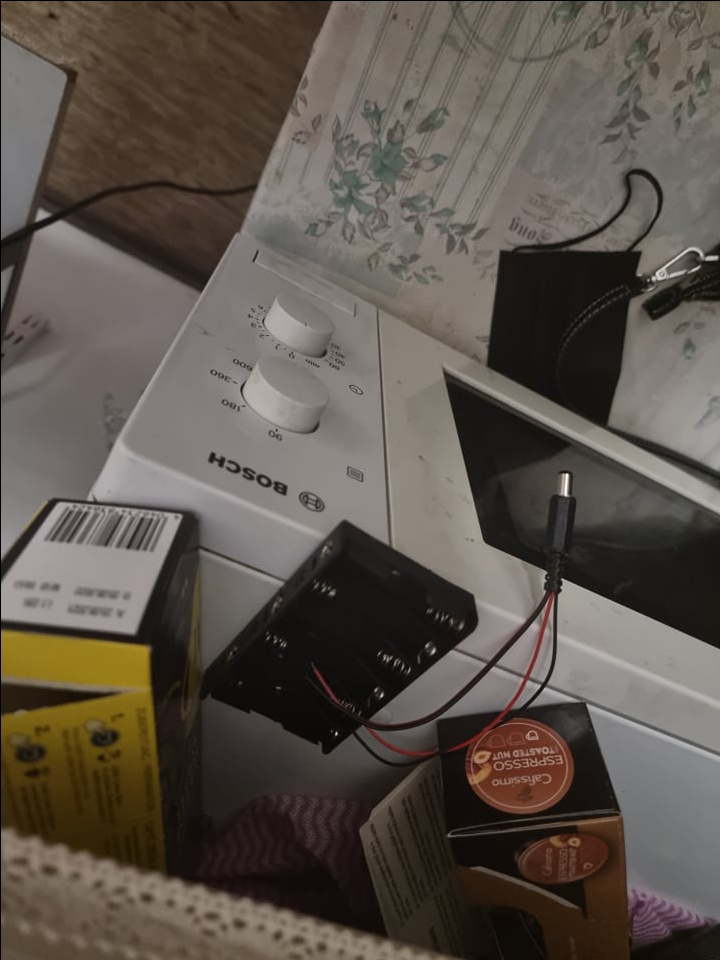BATTERY BOX: (201, 519, 475, 755)
